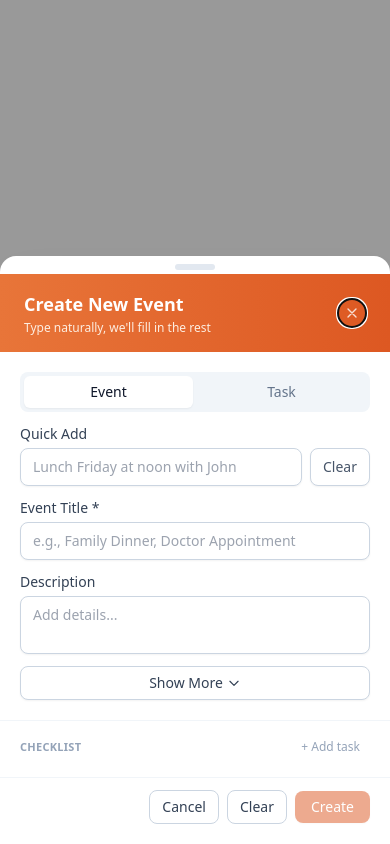
Test case: EventFormModal - task-mode scoping (issue 021) › shows the quick-add help panel next to the task title
Click the button "Task" at x=282, y=392, box [197,376,366,408]
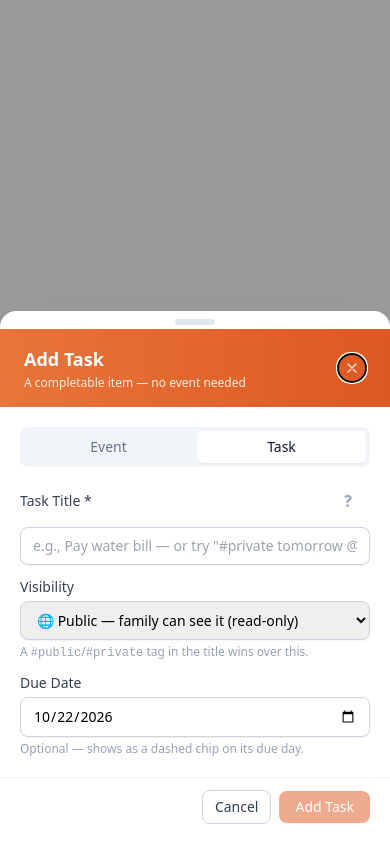
Click the button named "Quick-add shortcuts help" at x=348, y=501, box [326,479,370,523]
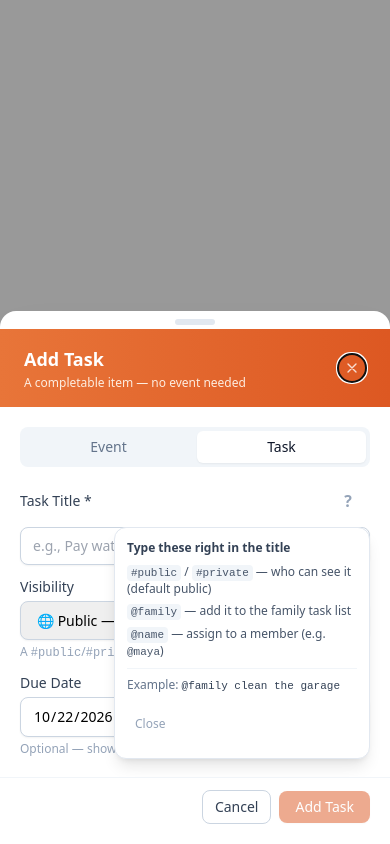
Expected: the text "Type these right in the title" is shown, [127,539,290,556]
